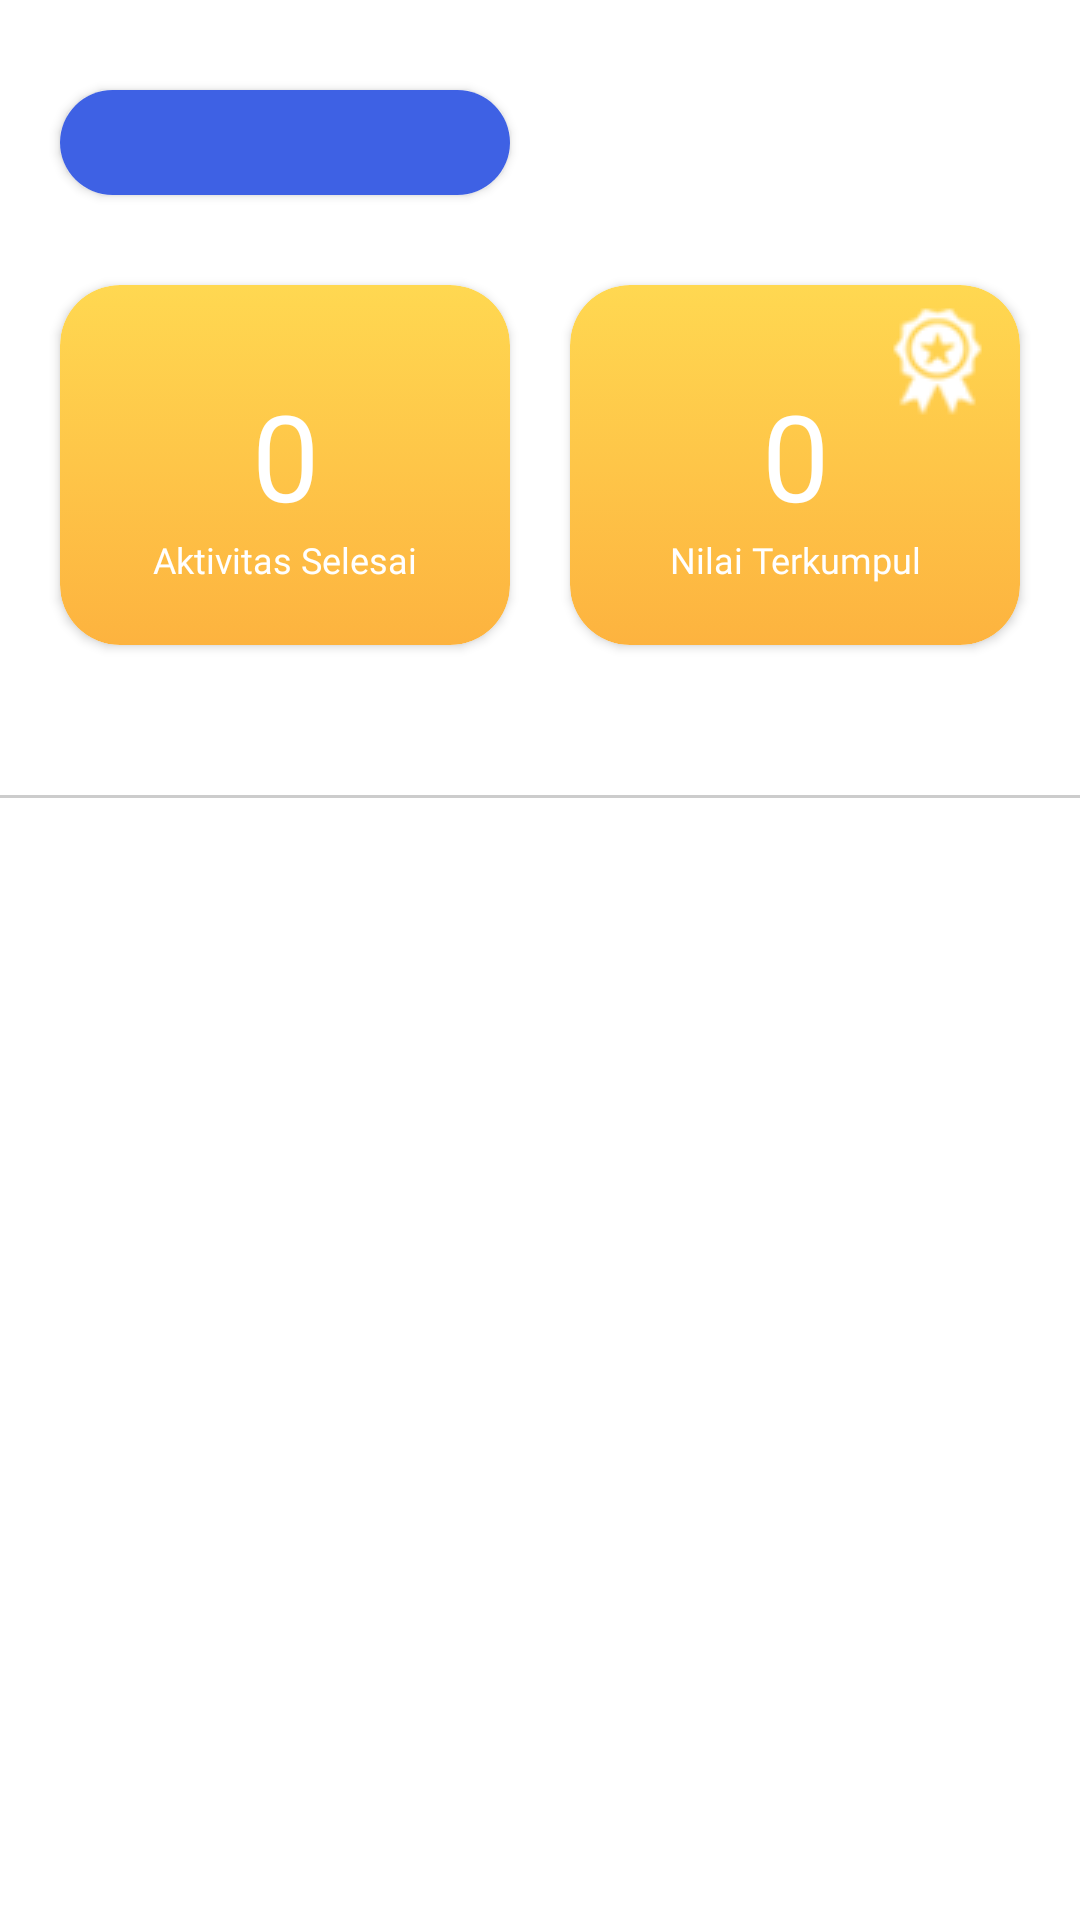

Icon click points for this 1080x1920 phone screenshot, format (x=x, y=y):
pointsbadge: (x=937, y=361)
